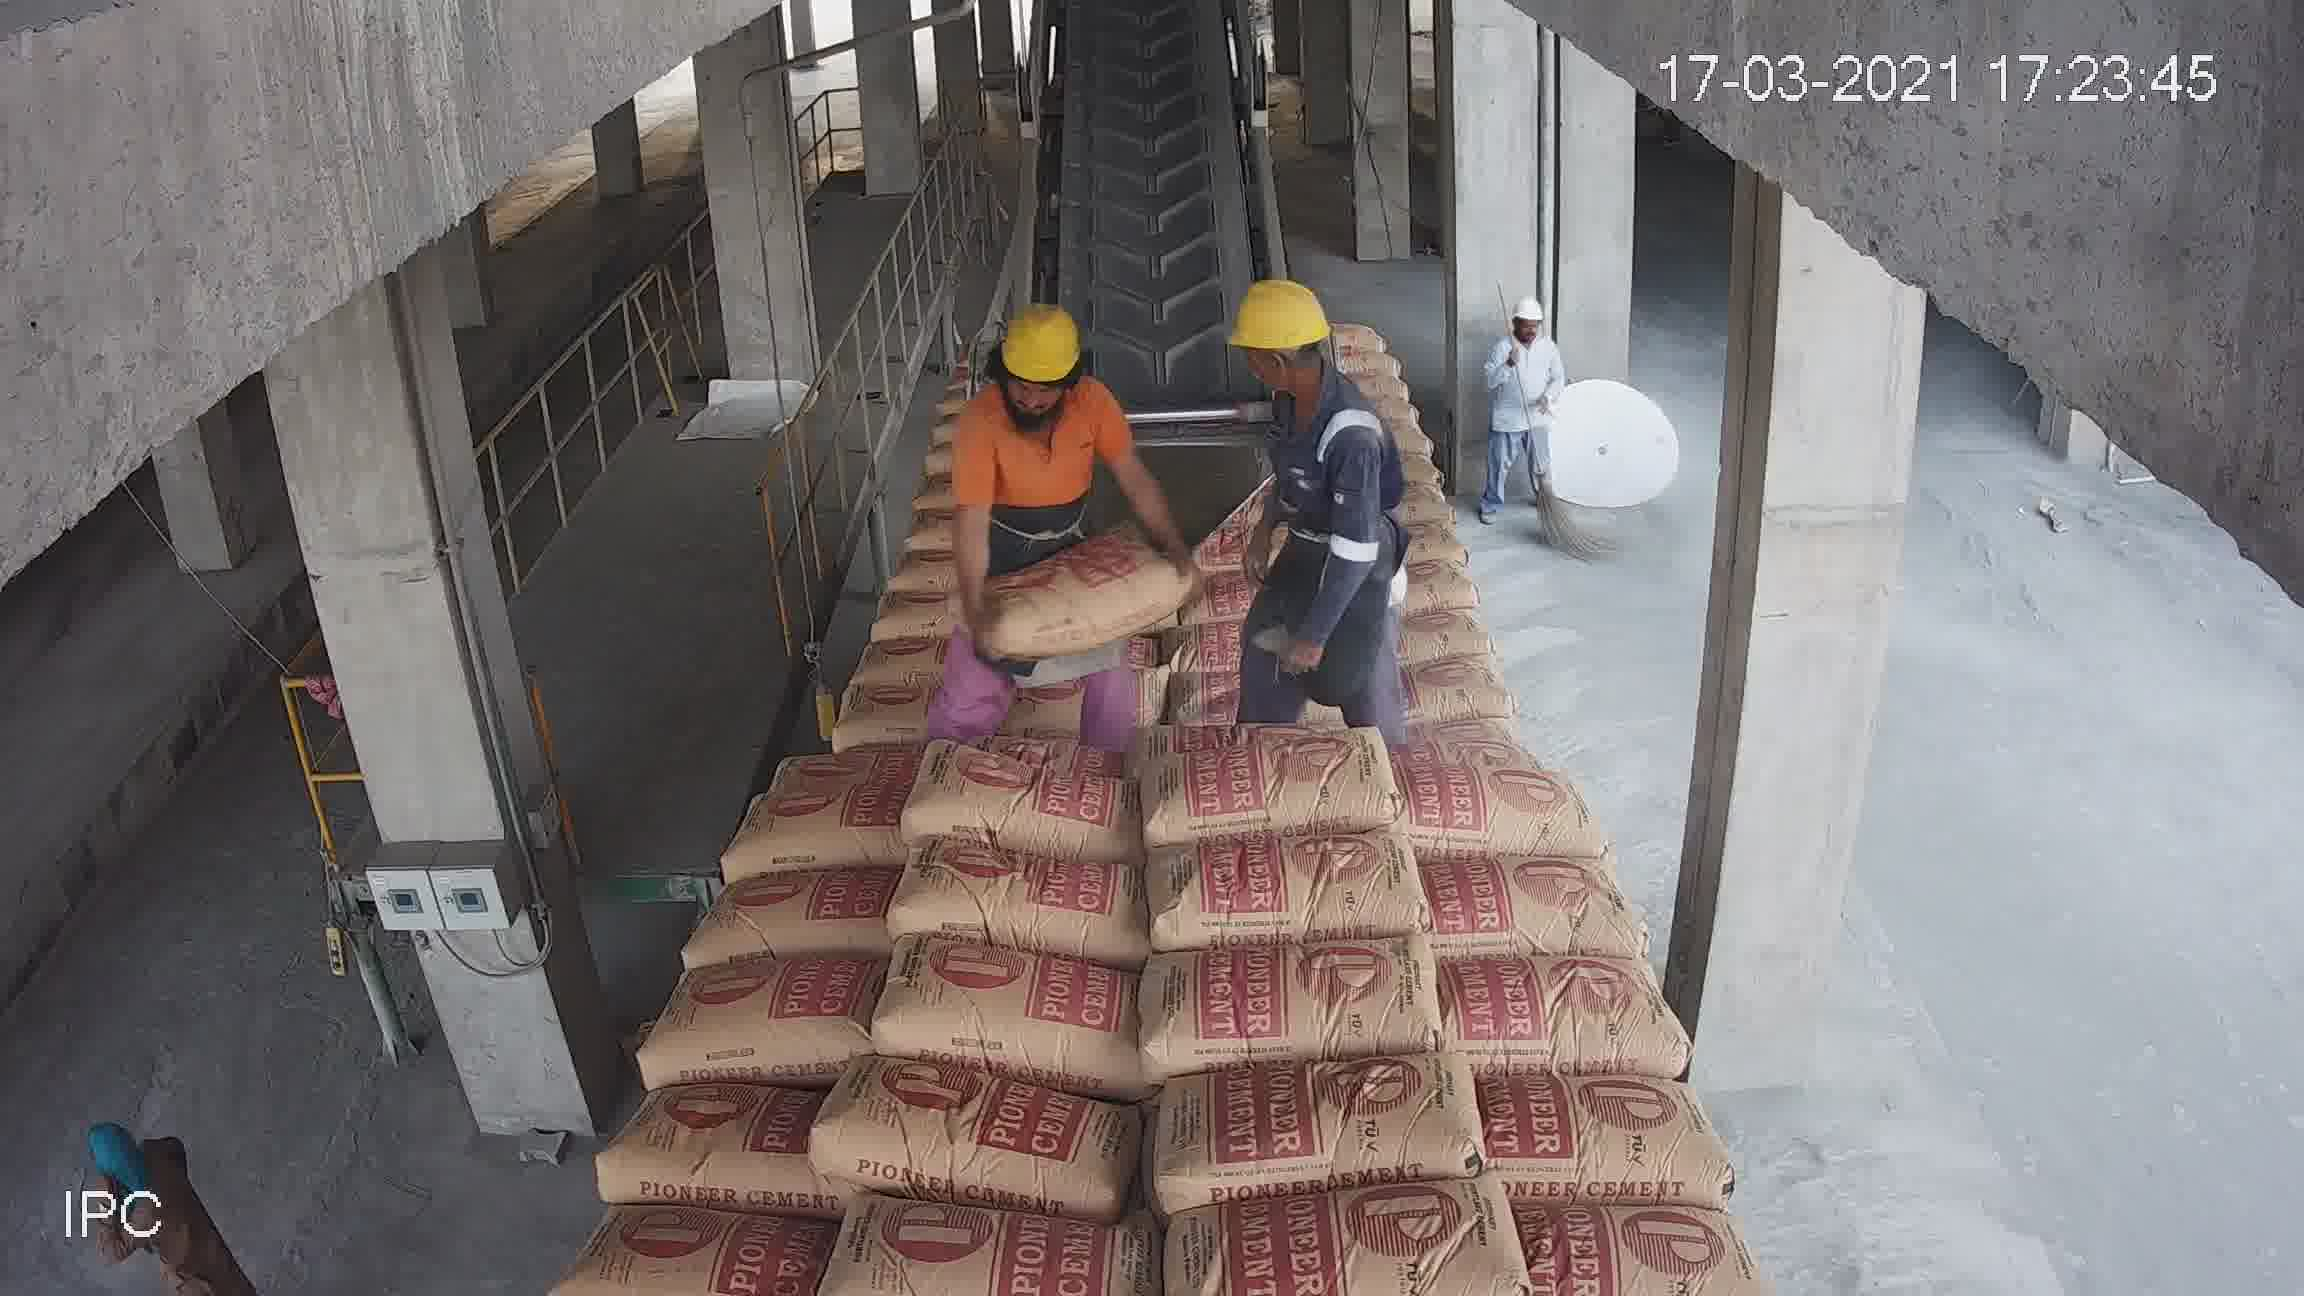bag: (1063, 14, 1260, 345), (943, 385, 1079, 468), (1100, 135, 1204, 236)
bag_h: (1127, 1044, 1473, 1204), (1116, 1158, 1495, 1296), (1161, 817, 1415, 972), (1161, 945, 1464, 1070), (828, 1071, 1105, 1195), (1465, 1060, 1706, 1192), (886, 957, 1144, 1079), (584, 1067, 813, 1203), (1446, 938, 1666, 1071), (1169, 720, 1388, 851), (897, 850, 1150, 959), (892, 760, 1154, 862), (810, 1204, 1101, 1296), (639, 962, 858, 1082), (1525, 1190, 1760, 1296), (677, 862, 885, 978), (1426, 850, 1628, 953), (709, 785, 902, 892), (916, 673, 1139, 763), (560, 1214, 799, 1294), (1158, 665, 1367, 756), (1173, 590, 1375, 680), (775, 638, 968, 729), (956, 604, 1166, 677), (949, 554, 1138, 631), (1400, 779, 1581, 859), (1152, 486, 1340, 559), (1381, 684, 1552, 763), (1329, 502, 1497, 579), (1160, 541, 1347, 608), (771, 704, 916, 786), (1337, 574, 1502, 646), (815, 529, 972, 592), (1313, 430, 1449, 500), (1377, 635, 1527, 696), (987, 514, 1154, 563), (1302, 411, 1431, 472), (1294, 388, 1421, 445), (820, 589, 948, 644), (1339, 473, 1465, 529), (1302, 328, 1397, 380), (1074, 424, 1165, 468), (1315, 359, 1400, 404)
